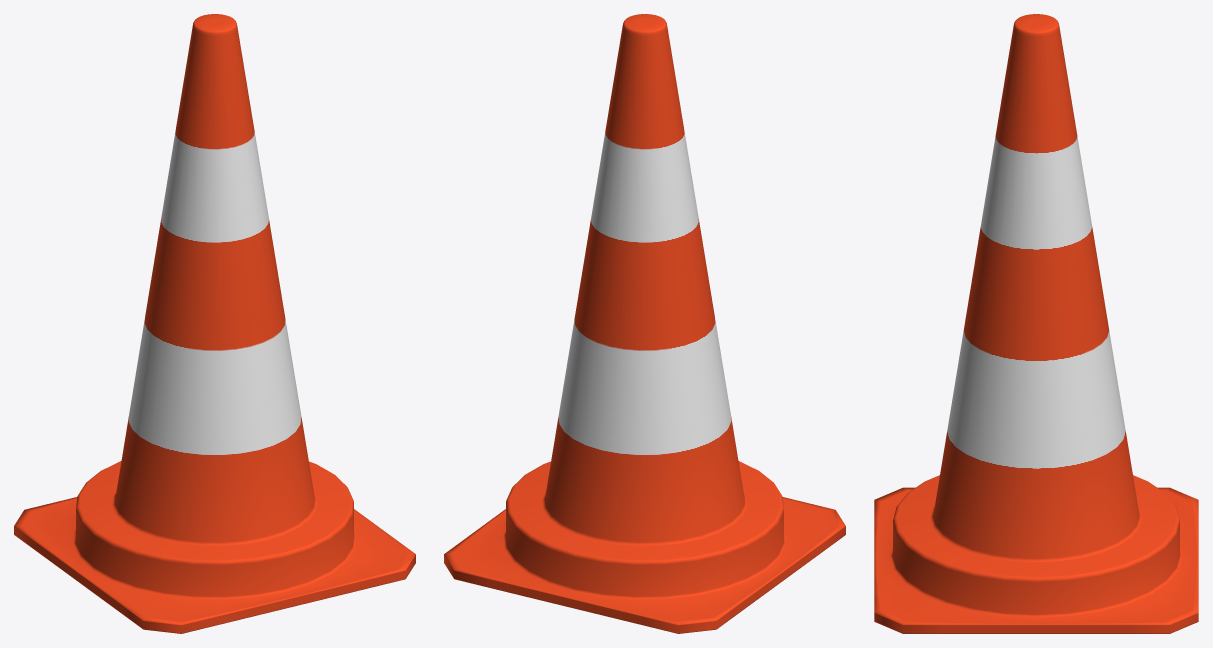
Rendered from ConeStop.fbx.
3 views of the same model, side by side, from view 1: azimuth 30°, elevation 25°; view 2: azimuth 150°, elevation 25°; view 3: azimuth 270°, elevation 25° (orthographic). The views are drawn at different scales.
Parts seen in each view (by area): view 1: cgaxis_models_113_36_01; view 2: cgaxis_models_113_36_01; view 3: cgaxis_models_113_36_01.
Part boxes in pixels (x1,y1,x2,y2): cgaxis_models_113_36_01: [14, 14, 415, 633]; cgaxis_models_113_36_01: [444, 14, 845, 633]; cgaxis_models_113_36_01: [874, 14, 1198, 633].
Size of the model in its own units: 10.99 by 20.3 by 10.99.
1 material, 1 textured.
